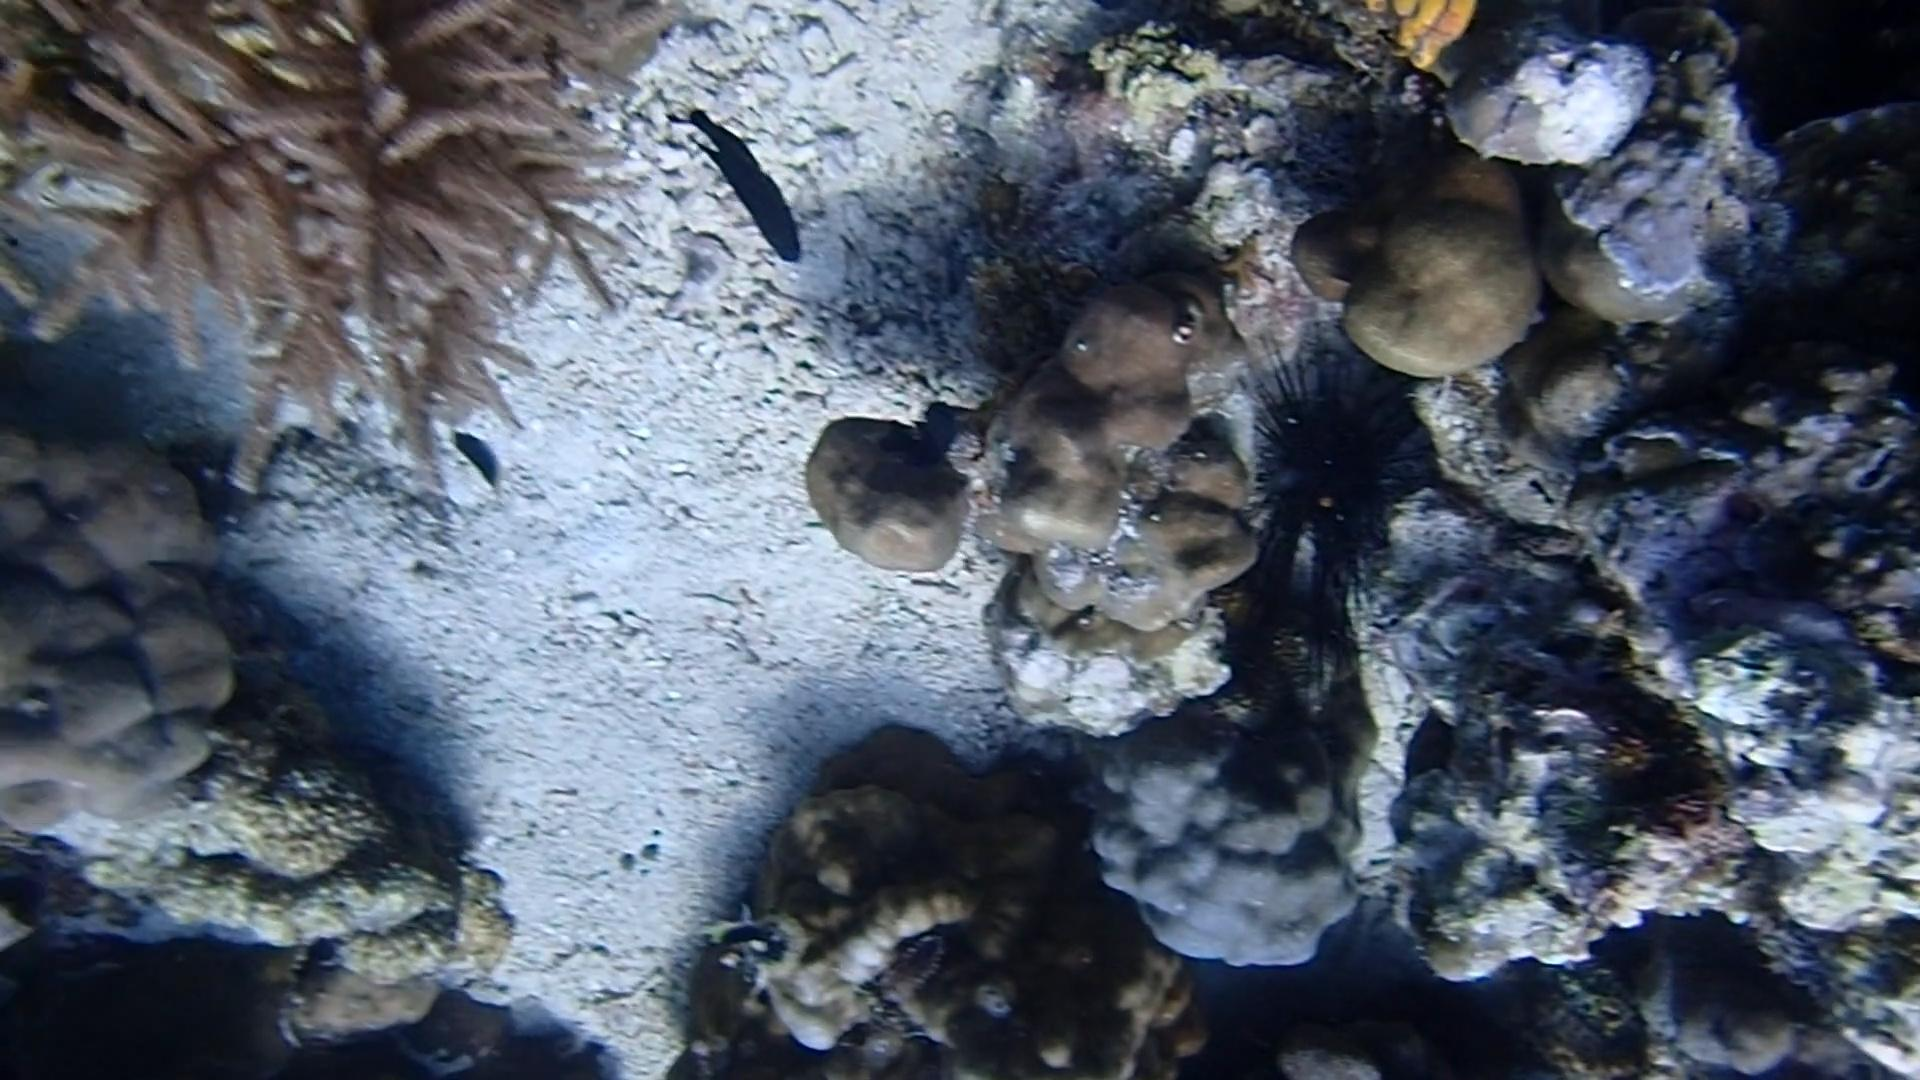Dark Fish: (655, 105, 820, 265)
Yellow Tail: (454, 423, 510, 505)
